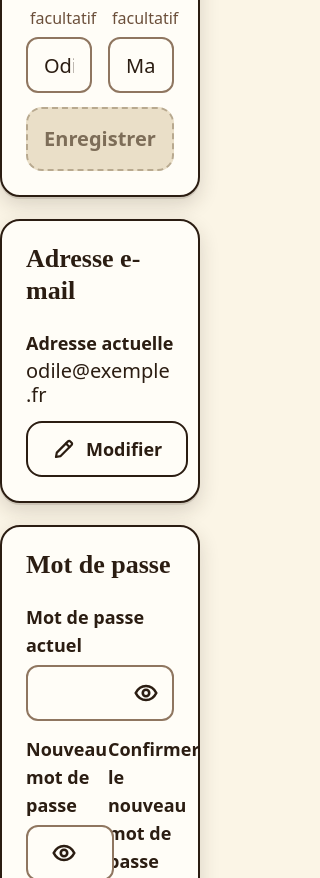
Scenario: AccountScreen › the e-mail card › opens the new address and the current password on « Modifier »
The width and height of the screenshot is (320, 878).
(page scrolled)
Click the button "Modifier".
click(107, 449)  # box [26,421,188,477]
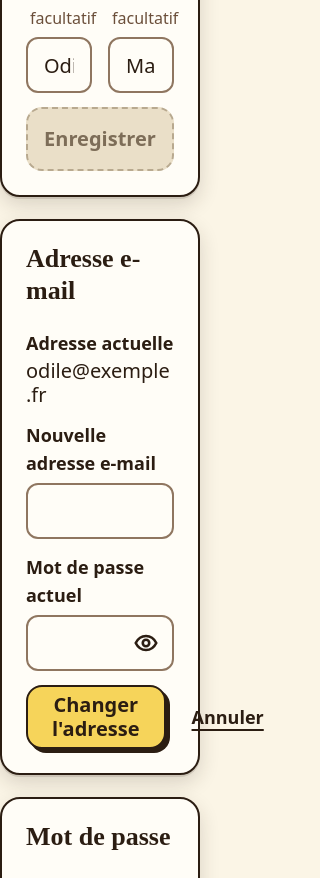
Expected: the button "Changer l'adresse" is shown, [26,685,166,749]
Expected: the button "Annuler" is shown, [178,689,278,745]
